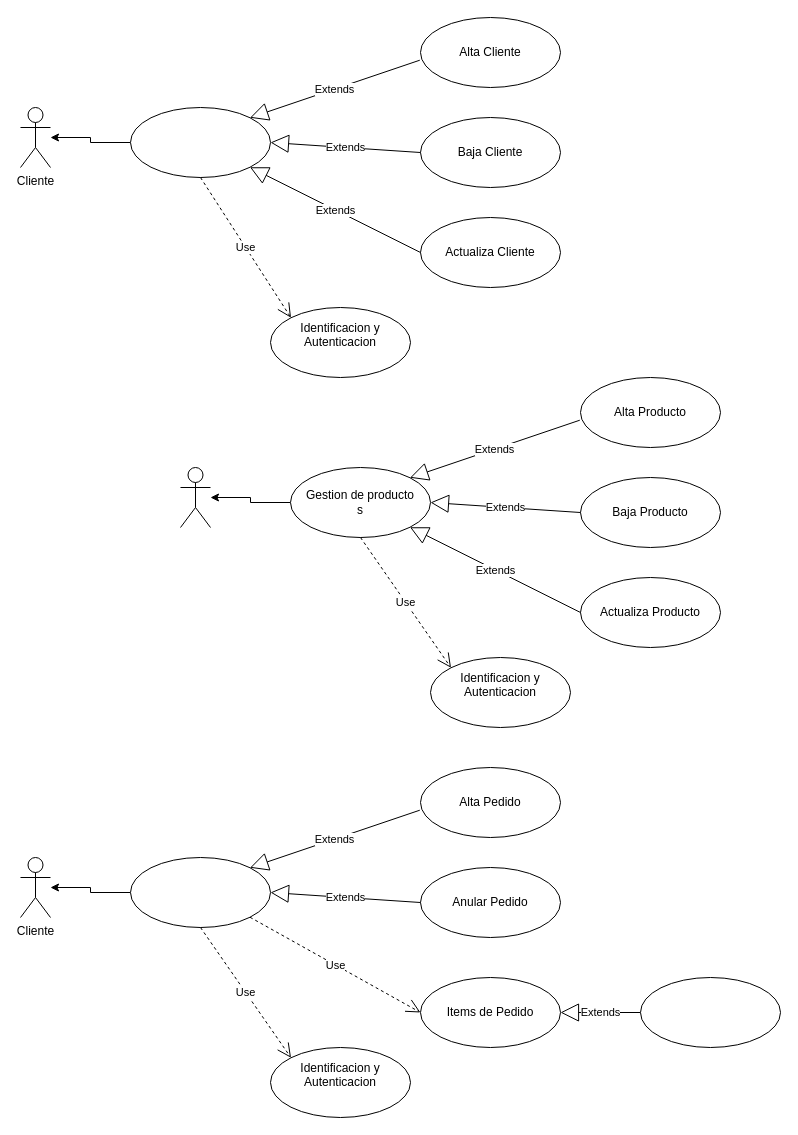
This 798x1135 diagram has some shape labels left out. The shapes that lost their labels are listed below. From the top down, each one's centre as x and y in pixels, then its label:
At pixel 200 142: "Gestion de clientes".
At pixel 195 497: "Admin".
At pixel 200 892: "Gestion de pedidos".
At pixel 710 1012: "Alta Item Pedido".
